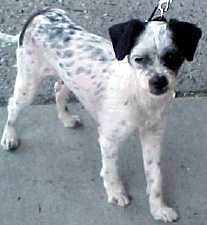Dog: (8, 9, 201, 212)
